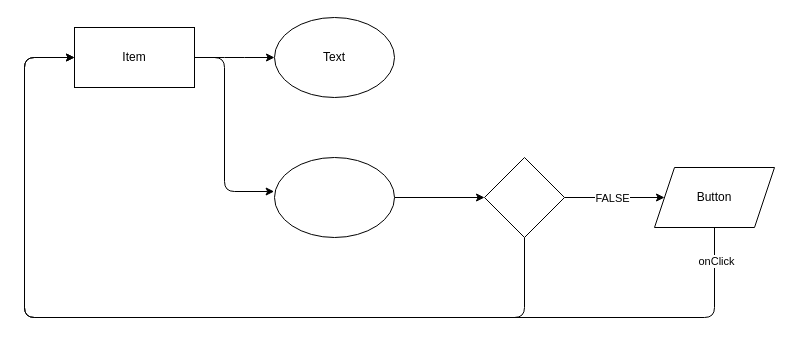
The diagram is 792 pixels wide and 343 high, and some of its shapes have lost their labels. Here are the shapes that lost their labels. From the top down, the centre of each, then its label:
(334,197): Item N+1
(524,197): isShow?
